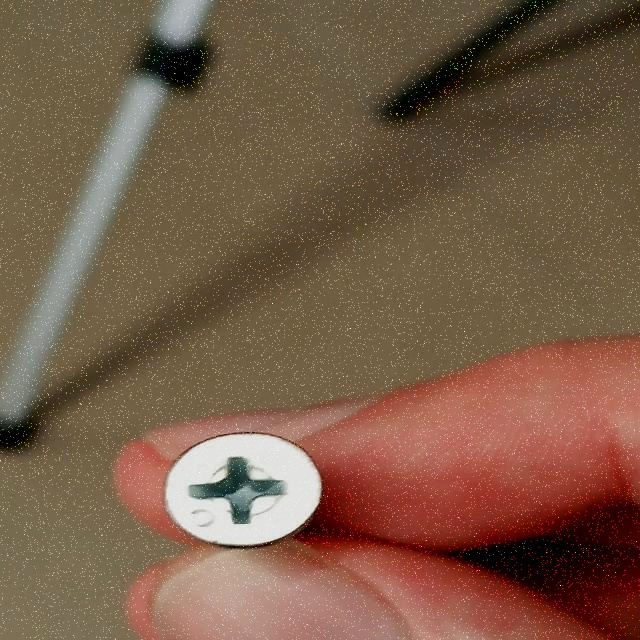phillips: (165, 431, 323, 549)
